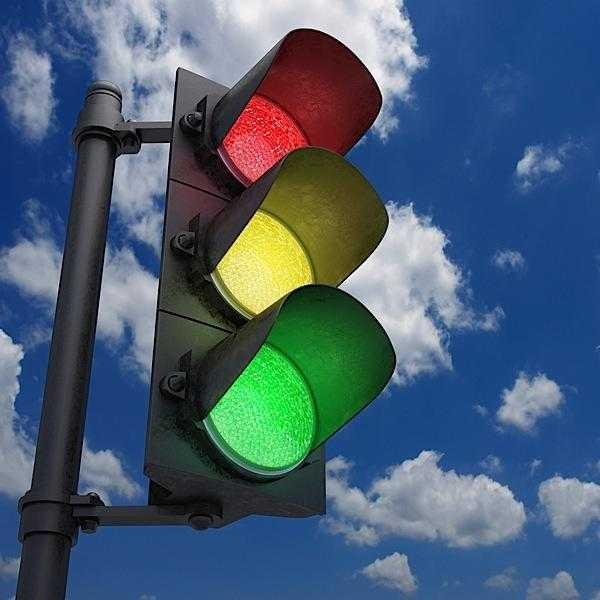green: (181, 299, 373, 505)
red: (184, 25, 383, 213)
